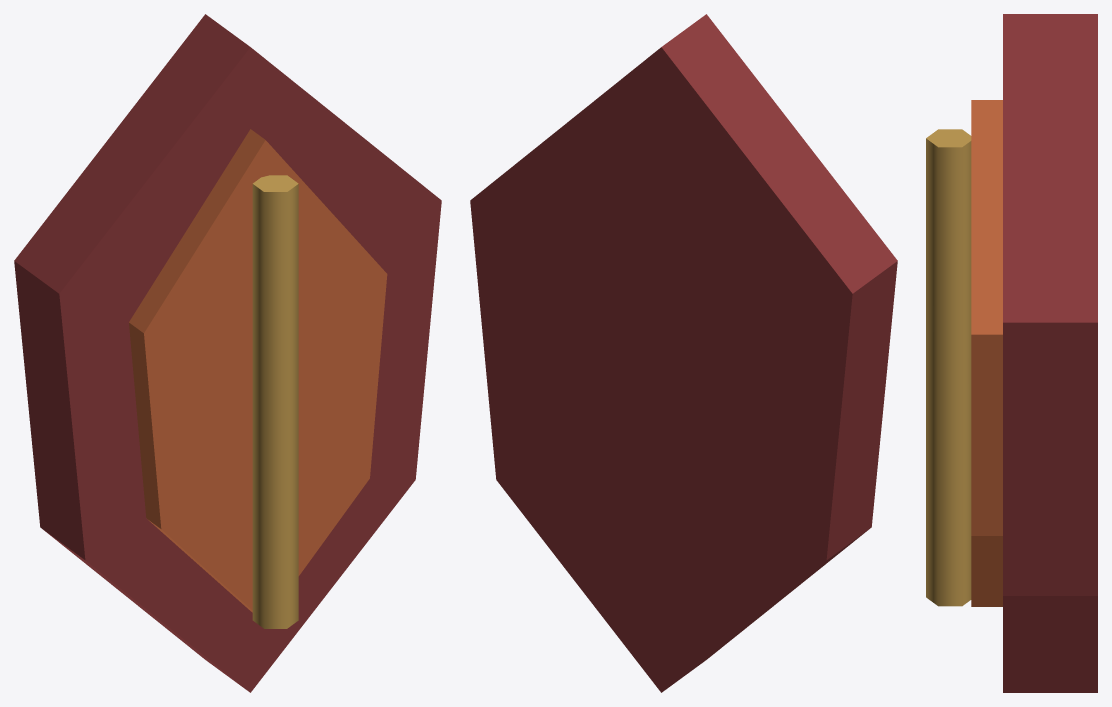
The model's file is drake_scale.fbx.
The picture shows the model from 3 angles, left to right: view 1: azimuth 30°, elevation 25°; view 2: azimuth 150°, elevation 25°; view 3: azimuth 270°, elevation 25°; orthographic projection. The views are drawn at different scales.
Visible parts, largest first — view 1: drake_scale; view 2: drake_scale; view 3: drake_scale.
Part boxes in pixels (x1,y1,x2,y2): drake_scale: [14, 14, 441, 692]; drake_scale: [470, 14, 897, 692]; drake_scale: [926, 14, 1097, 692].
Size of the model in its own units: 0.44 by 0.71 by 0.163.
